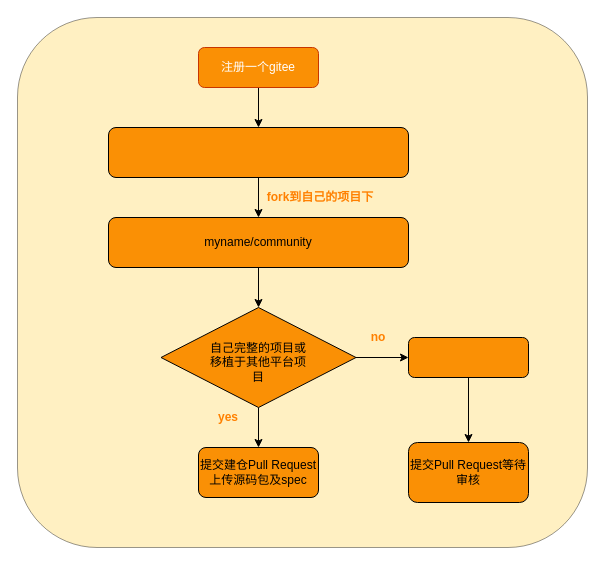
Some shapes in this 605 by 565 pixel diagram are drawn without their labels. Each missing label, with the centre of its shape:
发现缺陷提交 Patch: (x=468, y=357)
找到openEuler/community或 openEuler/community/sig/sig-openstack: (x=258, y=152)
